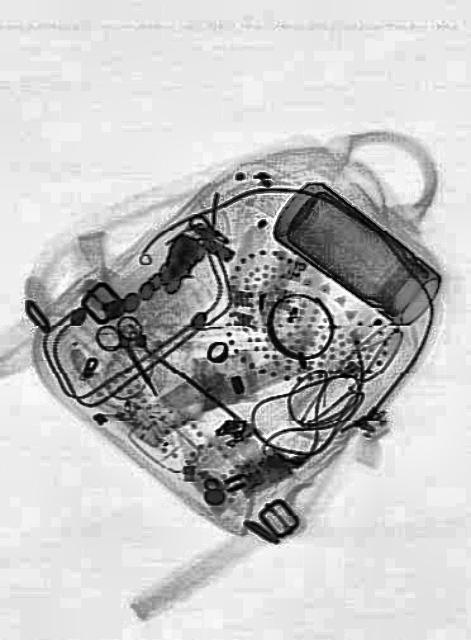Scissors: (91, 302, 171, 410)
